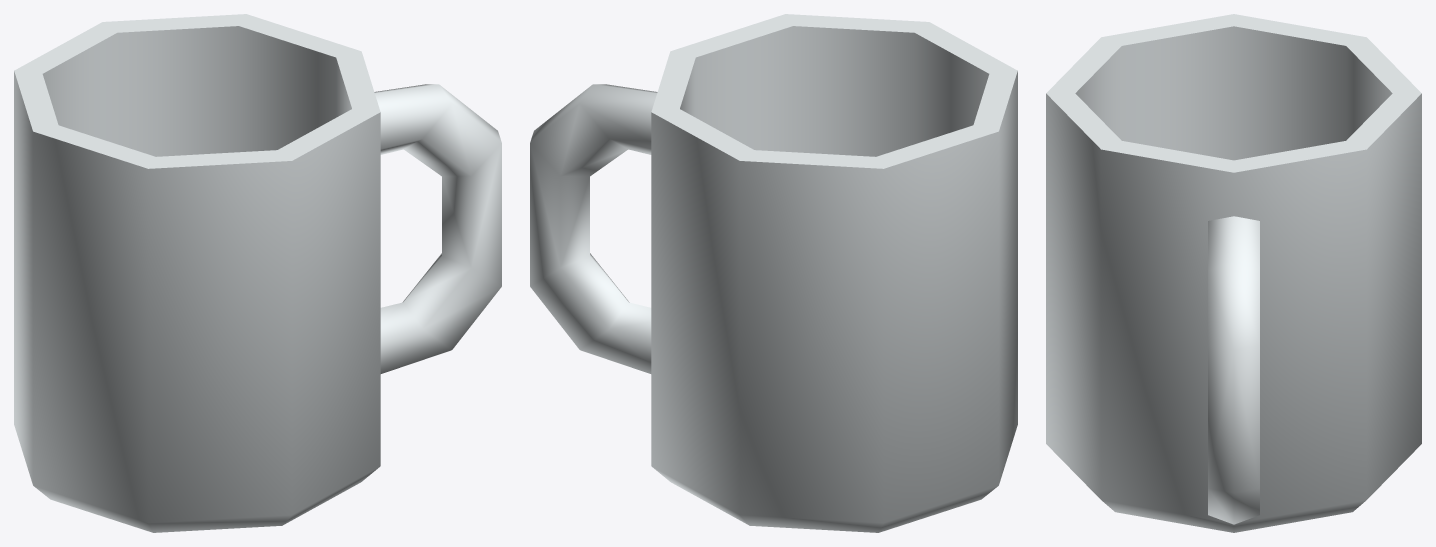
The model's file is 30_prop_cup2.FBX.
The picture shows the model from 3 angles, left to right: view 1: azimuth 30°, elevation 25°; view 2: azimuth 150°, elevation 25°; view 3: azimuth 270°, elevation 25°; orthographic projection.
Parts seen in each view (by area): view 1: prop_cup2; view 2: prop_cup2; view 3: prop_cup2.
Part boxes in pixels (x1,y1,x2,y2): prop_cup2: [14, 14, 501, 532]; prop_cup2: [530, 14, 1017, 532]; prop_cup2: [1046, 14, 1421, 532].
Size of the model in its own units: 14.96 by 11.45 by 10.57.
